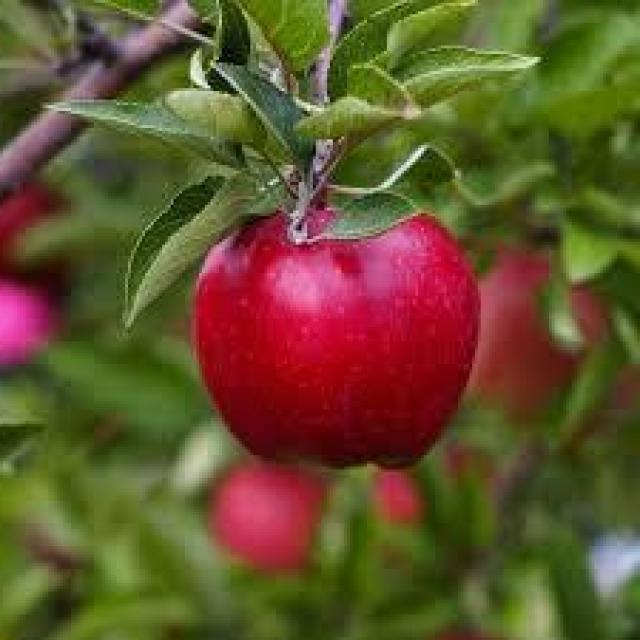apple: (192, 194, 478, 471)
